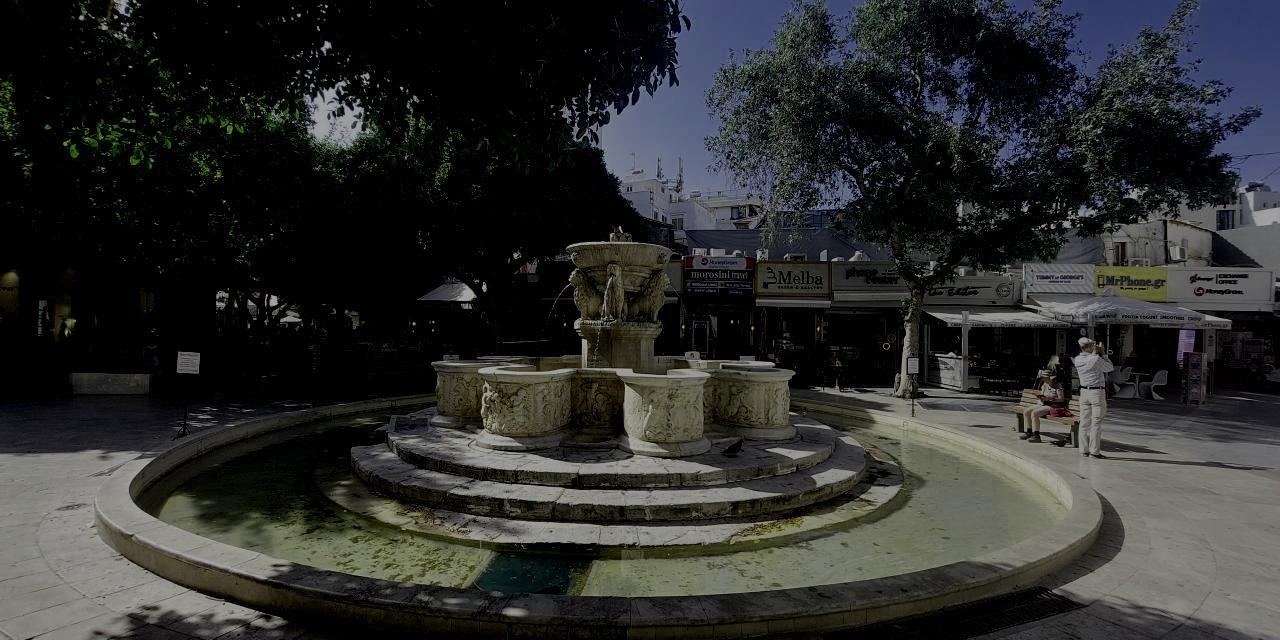Liontaria: (427, 233, 799, 455)
